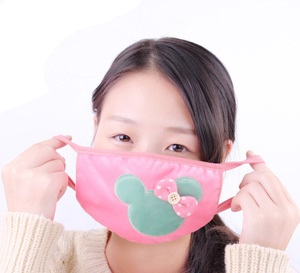face_mask: (94, 81, 206, 229)
